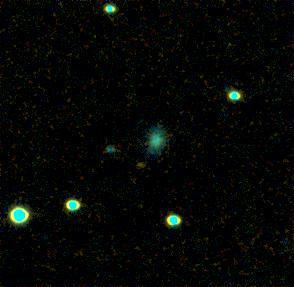star: (126, 149, 156, 179)
